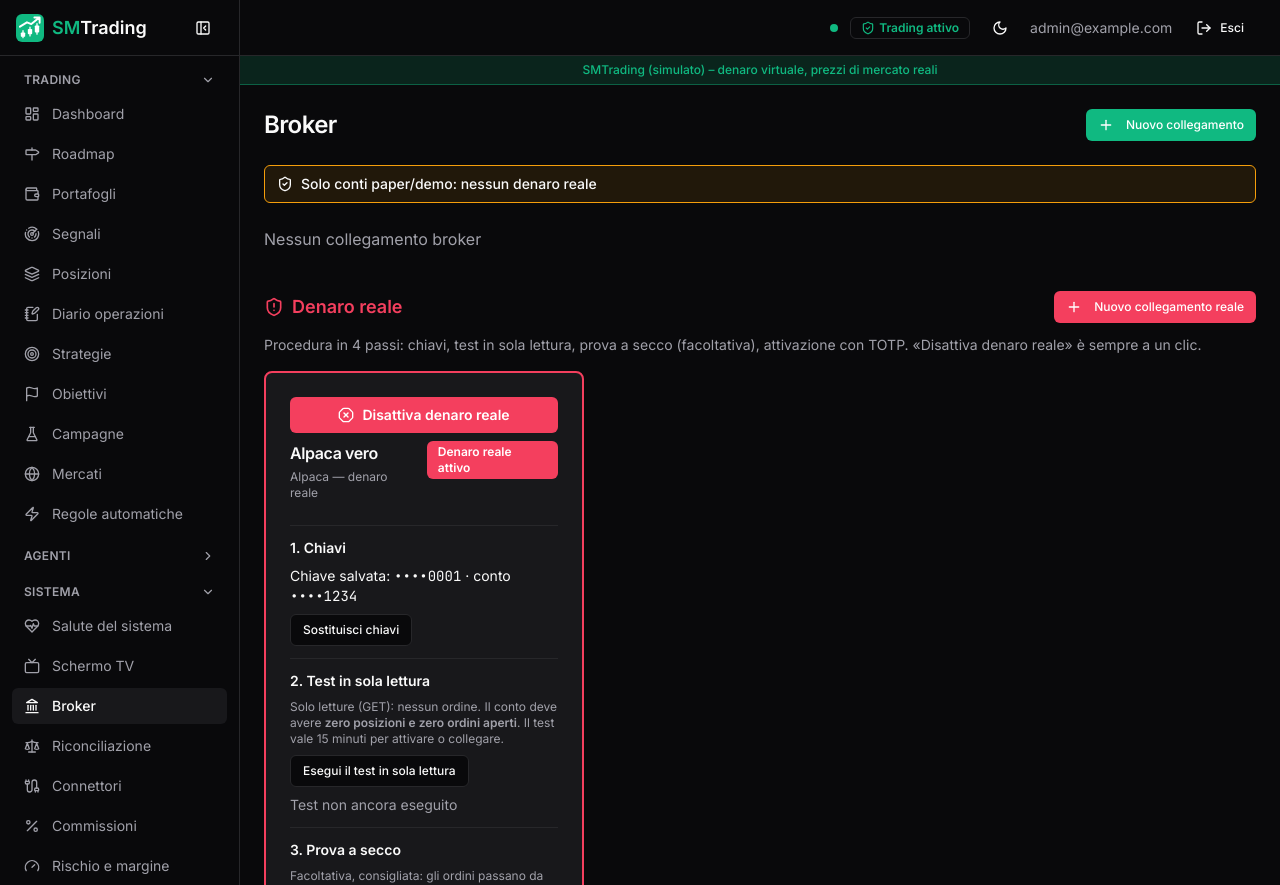
LiveLinkWizard › disarm is one click without totp
This screenshot has width=1280, height=885.
Click the button "Disattiva denaro reale" at x=424, y=415, box [290, 397, 558, 433]
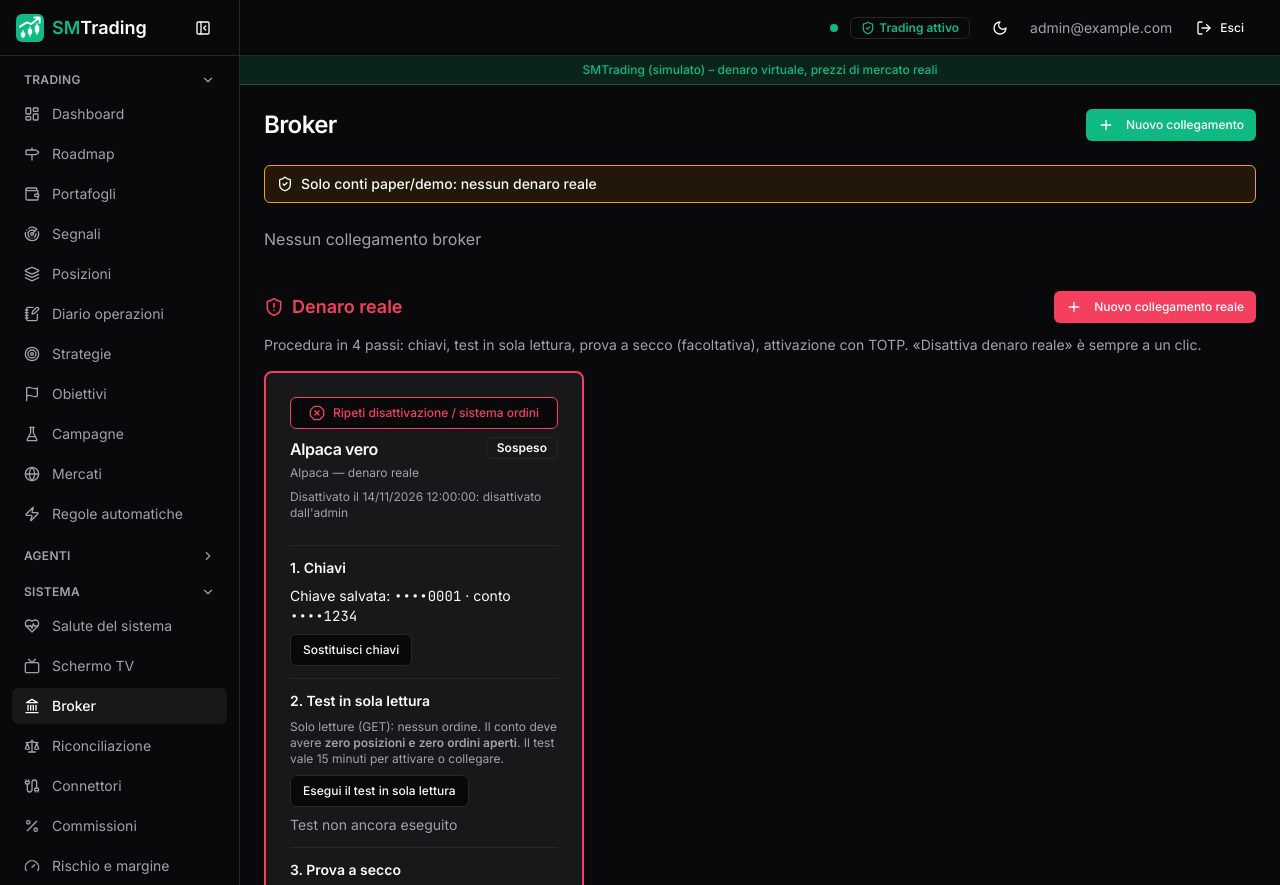
Expected: the button "Disattiva denaro reale" is not shown
Now the text "Disattivato il 14/11/2026 12:00:00: disattivato dall'admin" is shown, box [290, 489, 558, 521]
